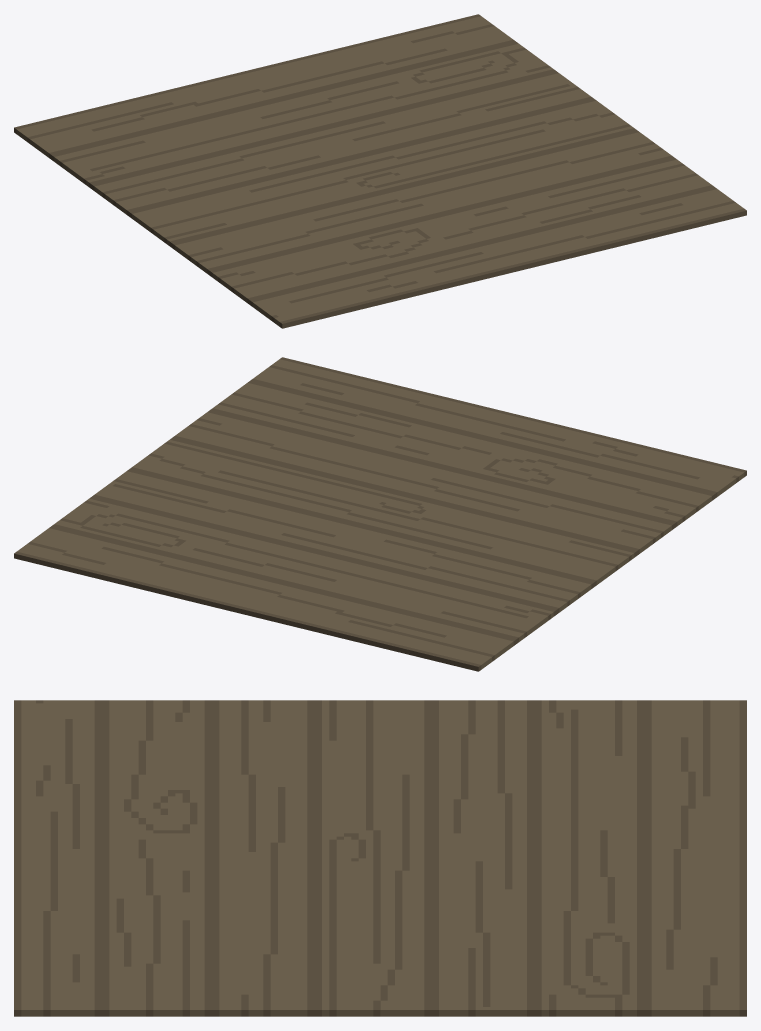
The model's file is GGJ floor 01 wooden 01.obj.
3 renders of one model, top to bottom at view 1: azimuth 30°, elevation 25°; view 2: azimuth 150°, elevation 25°; view 3: azimuth 270°, elevation 25°, orthographic. The views are drawn at different scales.
Size of the model in its own units: 10 by 0.1 by 10.
Materials: 1 (1 with a texture image).
